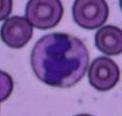N: (30, 33, 88, 87)
